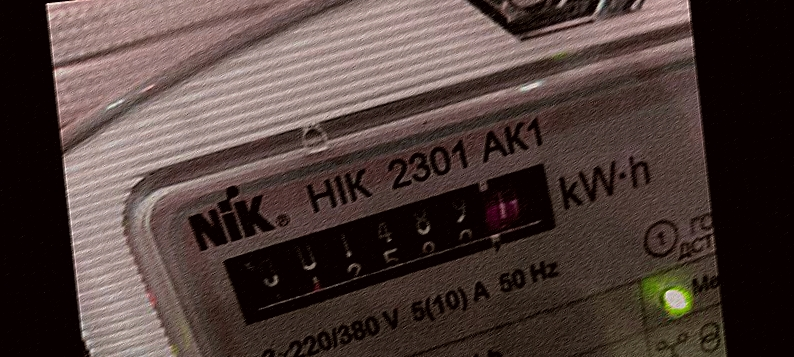0: (290, 234, 319, 272), (253, 252, 281, 289)
1: (488, 181, 511, 221), (333, 226, 356, 259)
4: (370, 212, 395, 245)
8: (409, 200, 433, 238)
9: (447, 190, 470, 224)
screen: (203, 148, 592, 338)
